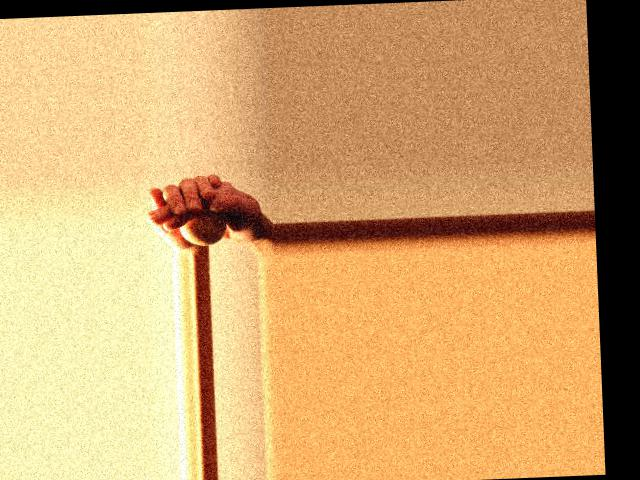egg: (179, 212, 228, 246)
